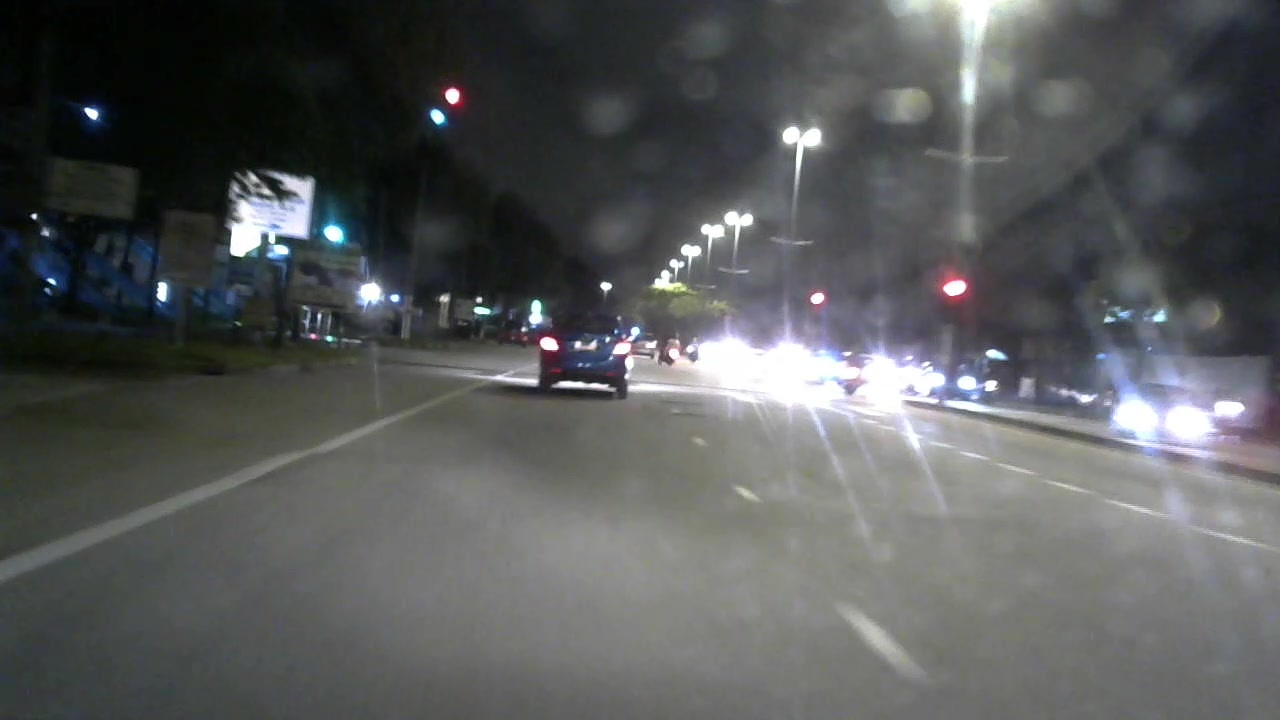Car: (519, 304, 639, 406), (1109, 378, 1225, 455), (624, 331, 664, 359)
